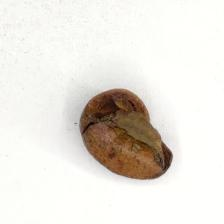NG: (87, 88, 175, 169)
